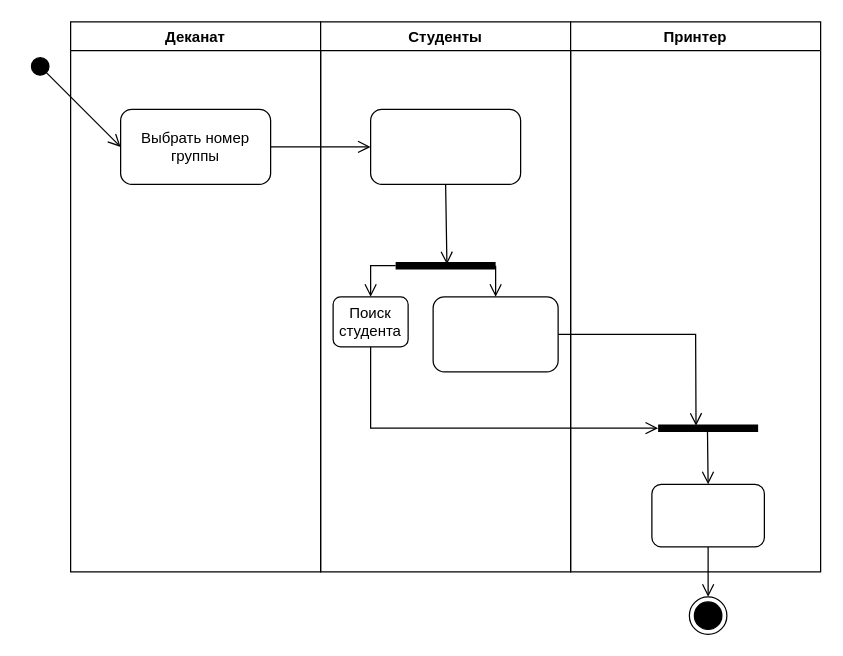
Some shapes in this 843 by 656 pixel diagram are drawn without their labels. Here are the shapes that lost their labels. From the top down, the centre of each, then its label:
At (x=445, y=146): "Запросить список студентов группы".
At (x=495, y=334): "Сформировать ведомость".
At (x=707, y=515): "Распечатать ведомость".
